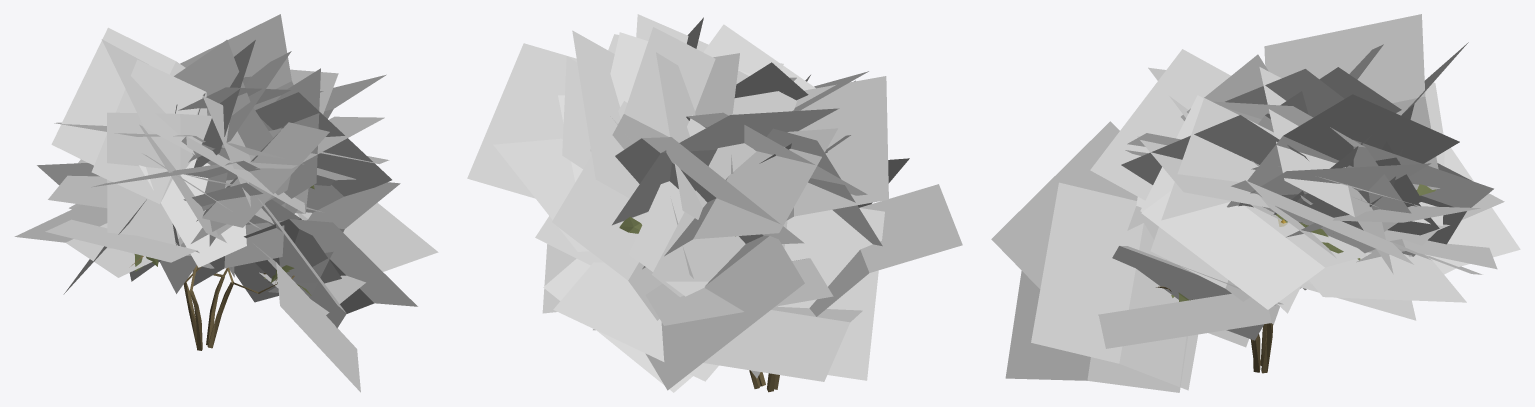
The model's file is Ciste_Jeune_LOD2.fbx.
The picture shows the model from 3 angles, left to right: view 1: azimuth 30°, elevation 25°; view 2: azimuth 150°, elevation 25°; view 3: azimuth 270°, elevation 25°; orthographic projection. The views are drawn at different scales.
Parts seen in each view (by area): view 1: Ciste_Jeune_LOD2; view 2: Ciste_Jeune_LOD2; view 3: Ciste_Jeune_LOD2.
Boxes of the visible parts, bbox=[...] form: Ciste_Jeune_LOD2: bbox=[14, 14, 438, 392]; Ciste_Jeune_LOD2: bbox=[467, 14, 962, 392]; Ciste_Jeune_LOD2: bbox=[991, 14, 1520, 392].
Bounding box in the file's own units: 122 × 94.41 × 132.
